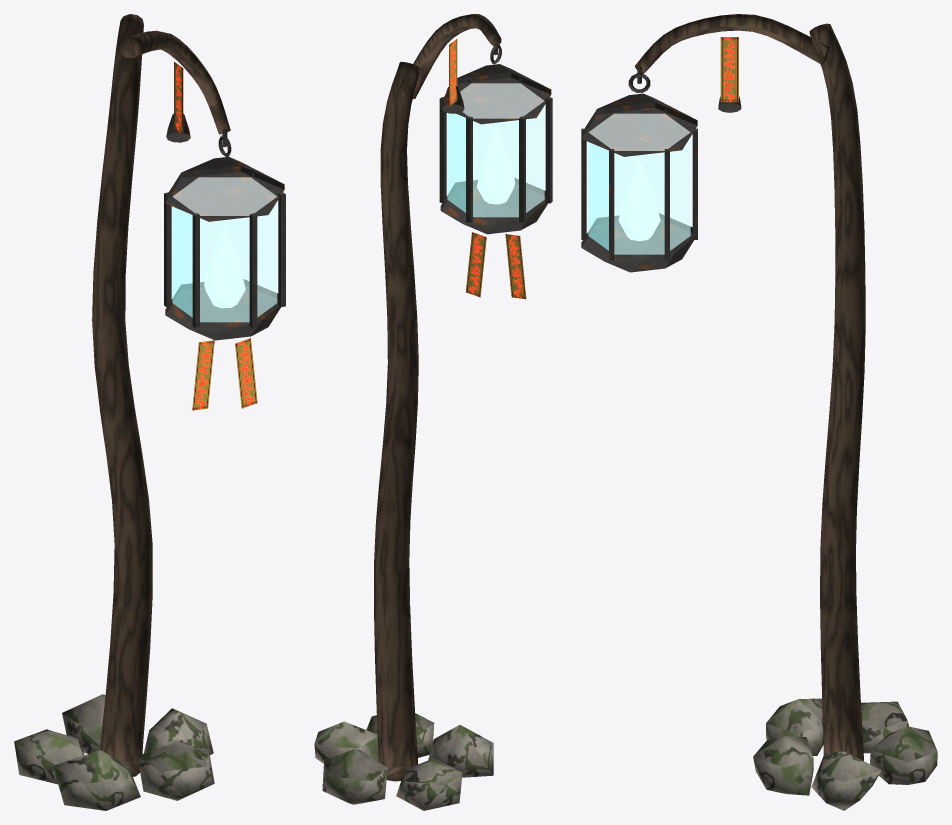
The model's file is soul_lantern.glb.
3 views of the same model, side by side, from view 1: azimuth 30°, elevation 25°; view 2: azimuth 150°, elevation 25°; view 3: azimuth 270°, elevation 25° (orthographic). The views are drawn at different scales.
Parts seen in each view (by area): view 1: LanternPole, LanternIron, PoleStones, SoulGlass, LanternTalismans, SoulFire; view 2: LanternPole, LanternIron, SoulGlass, PoleStones, LanternTalismans, SoulFire; view 3: LanternPole, PoleStones, SoulGlass, LanternIron, SoulFire, LanternTalismans.
Part boxes in pixels (x1,y1,x2,y2): LanternPole: (92,14,230,776); LanternIron: (164,113,285,340); PoleStones: (14,694,214,810); SoulGlass: (172,177,277,322); LanternTalismans: (174,61,257,410); SoulFire: (204,225,245,307); LanternPole: (374,14,501,781); LanternIron: (439,38,552,234); SoulGlass: (447,83,544,217); PoleStones: (314,713,493,810); LanternTalismans: (449,39,526,299); SoulFire: (477,127,514,203); LanternPole: (635,14,865,760); PoleStones: (753,698,937,810); SoulGlass: (588,113,690,254); LanternIron: (581,66,741,272); SoulFire: (619,160,660,240); LanternTalismans: (720,37,738,102).
Size of what is drawn, in the model's own units: 0.6351 by 2.82 by 1.19.
Materials: 6 (4 with a texture image).
